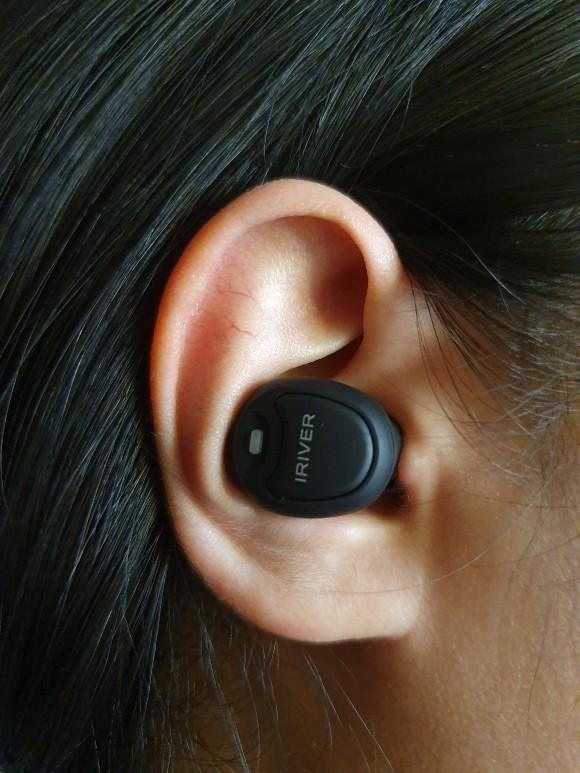earphone: (212, 360, 403, 527)
